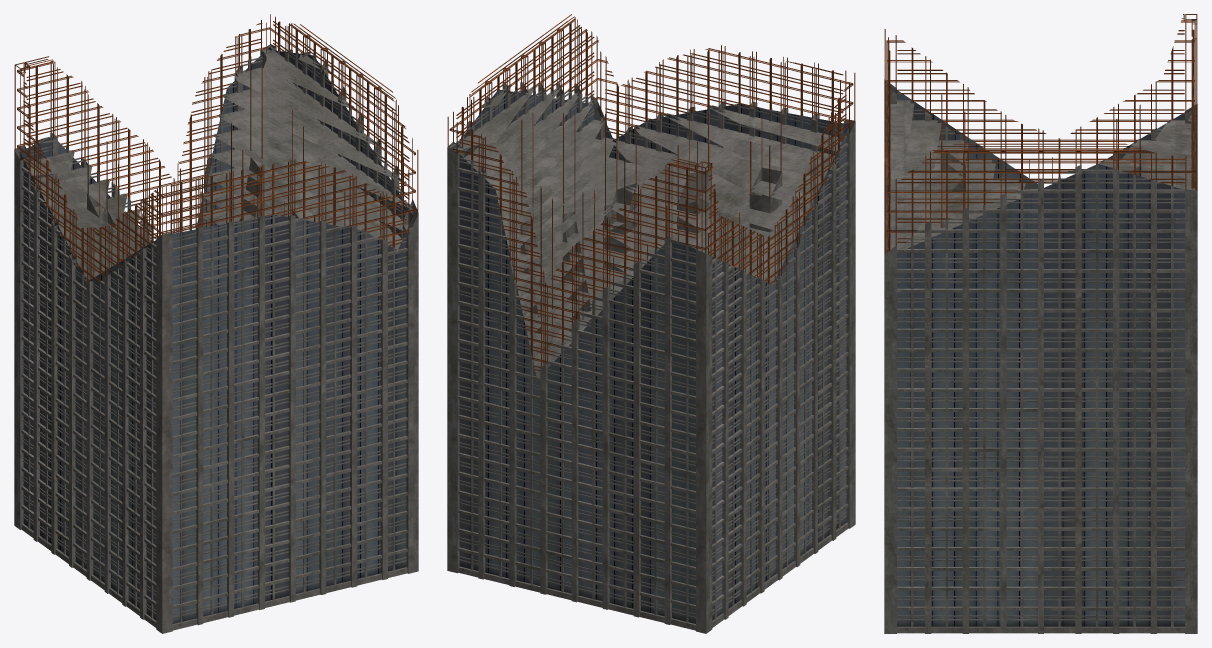
Rendered from ruin-building-01.glb.
3 renders of one model, left to right at view 1: azimuth 30°, elevation 25°; view 2: azimuth 150°, elevation 25°; view 3: azimuth 270°, elevation 25°, orthographic. The views are drawn at different scales.
Visible parts, largest first — view 1: M02_ruin-building-01; view 2: M02_ruin-building-01; view 3: M02_ruin-building-01.
Part boxes in pixels (x1=…): M02_ruin-building-01: x1=14, y1=14, x2=418, y2=633; M02_ruin-building-01: x1=447, y1=14, x2=855, y2=633; M02_ruin-building-01: x1=884, y1=14, x2=1197, y2=633.
Bounding box in the file's own units: 50 × 85.94 × 50.
Materials: 3 (3 with a texture image).
